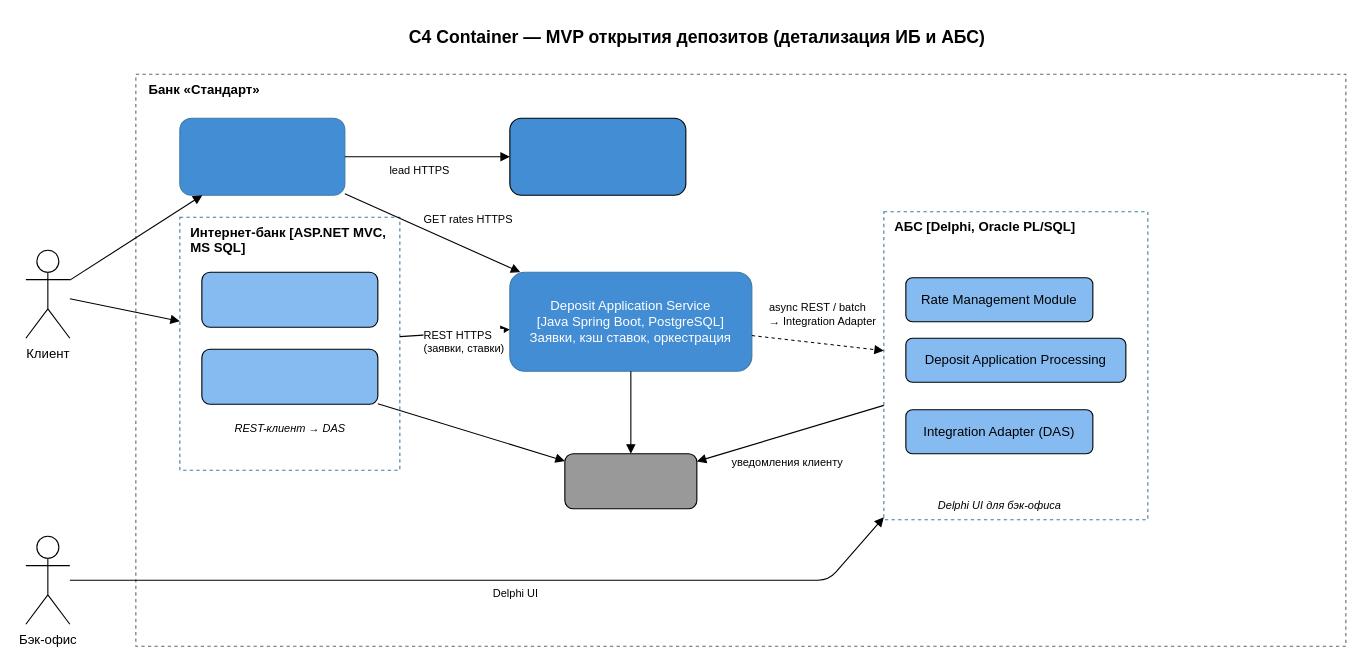
This 1365x666 diagram has some shape labels left out. The shapes that lost their labels are listed below. From the top down, each one's centre as x and y in pixels, then its label:
point (262, 156): Сайт [PHP, React] Маркетинг, форма заявки
point (597, 156): Кол-центр CRM [Java, React, PG]
point (289, 299): Deposit UI Module список депозитов, заявка
point (289, 376): SMS Confirmation Module подтверждение СМС-кодом
point (630, 481): СМС-шлюз
